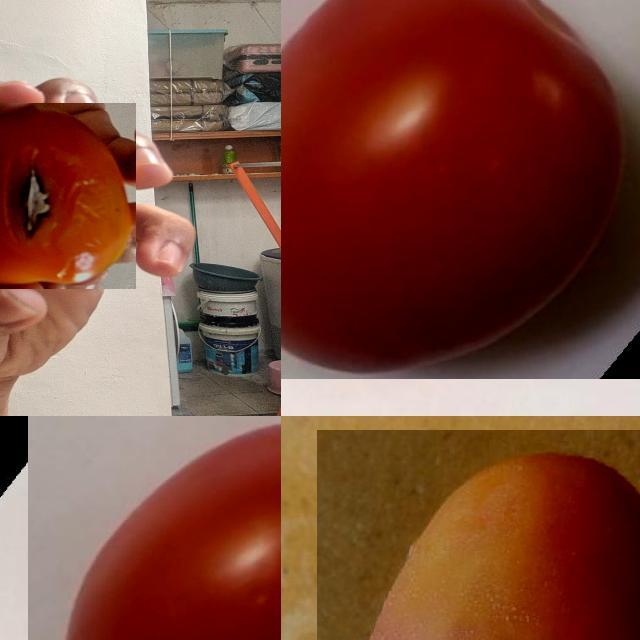Fresh Tomato: (281, 0, 640, 379), (316, 429, 640, 640), (28, 416, 281, 640)
Rotten Tomato: (0, 102, 136, 289)
